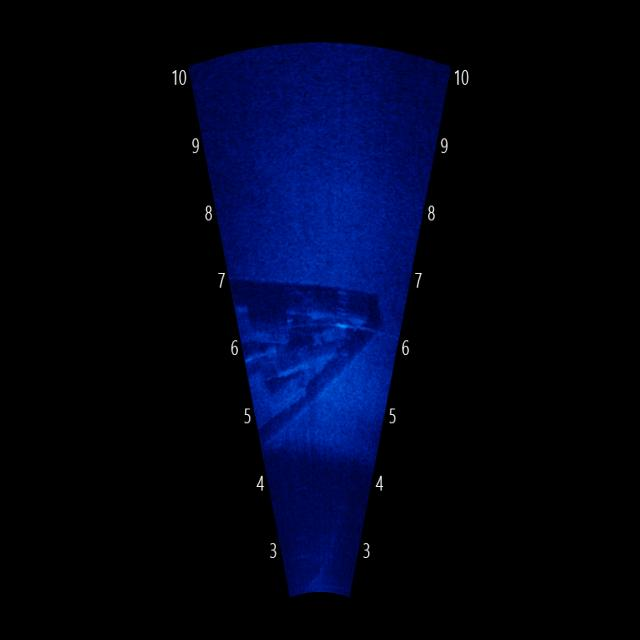triangle: (236, 264, 380, 454)
